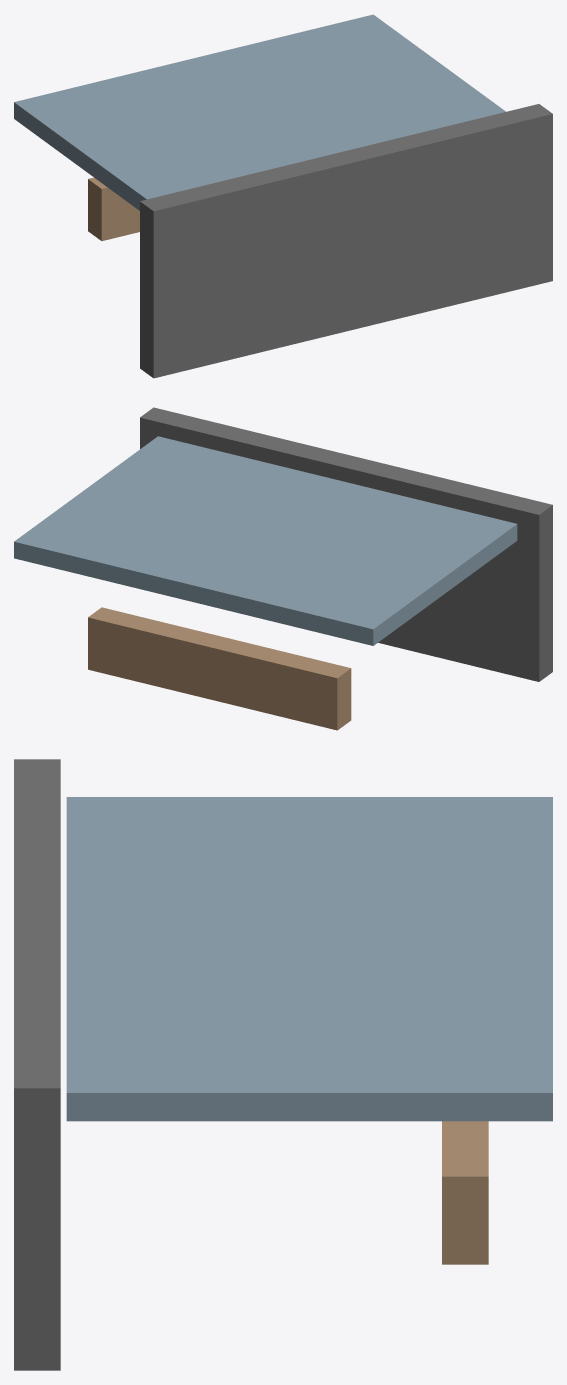
File: city_bus_stop_shelter.glb
3 views of the same model, one above another, from view 1: azimuth 30°, elevation 25°; view 2: azimuth 150°, elevation 25°; view 3: azimuth 270°, elevation 25° (orthographic). The views are drawn at different scales.
Visible parts, largest first — view 1: roof, back_panel, bench; view 2: back_panel, roof, bench; view 3: back_panel, roof, bench.
Boxes of the visible parts, x1=… form: roof: x1=140, y1=104, x2=552, y2=378; back_panel: x1=14, y1=14, x2=505, y2=210; bench: x1=88, y1=177, x2=139, y2=240; back_panel: x1=14, y1=436, x2=517, y2=645; roof: x1=140, y1=407, x2=552, y2=681; bench: x1=88, y1=607, x2=351, y2=730; back_panel: x1=66, y1=797, x2=552, y2=1121; roof: x1=14, y1=759, x2=60, y2=1370; bench: x1=442, y1=1121, x2=488, y2=1264.
Bounding box in the file's own units: 2 × 0.8 × 1.39.
